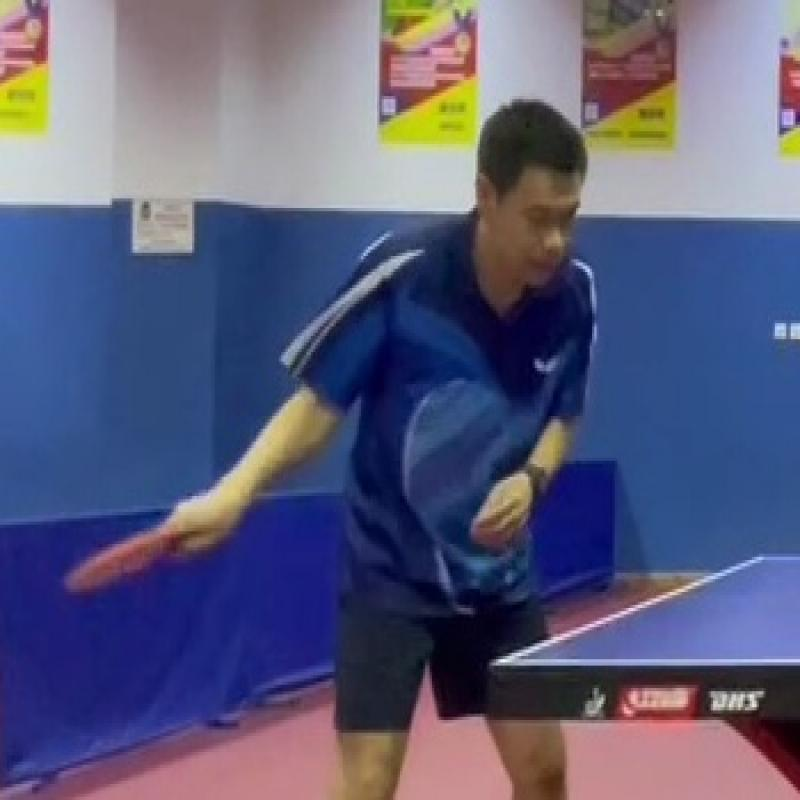bats: (46, 498, 213, 620)
